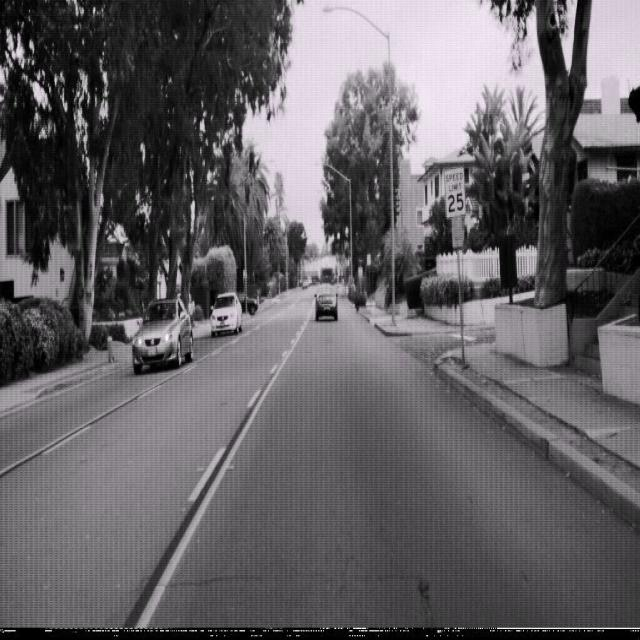speedLimit25: (443, 164, 467, 218)
